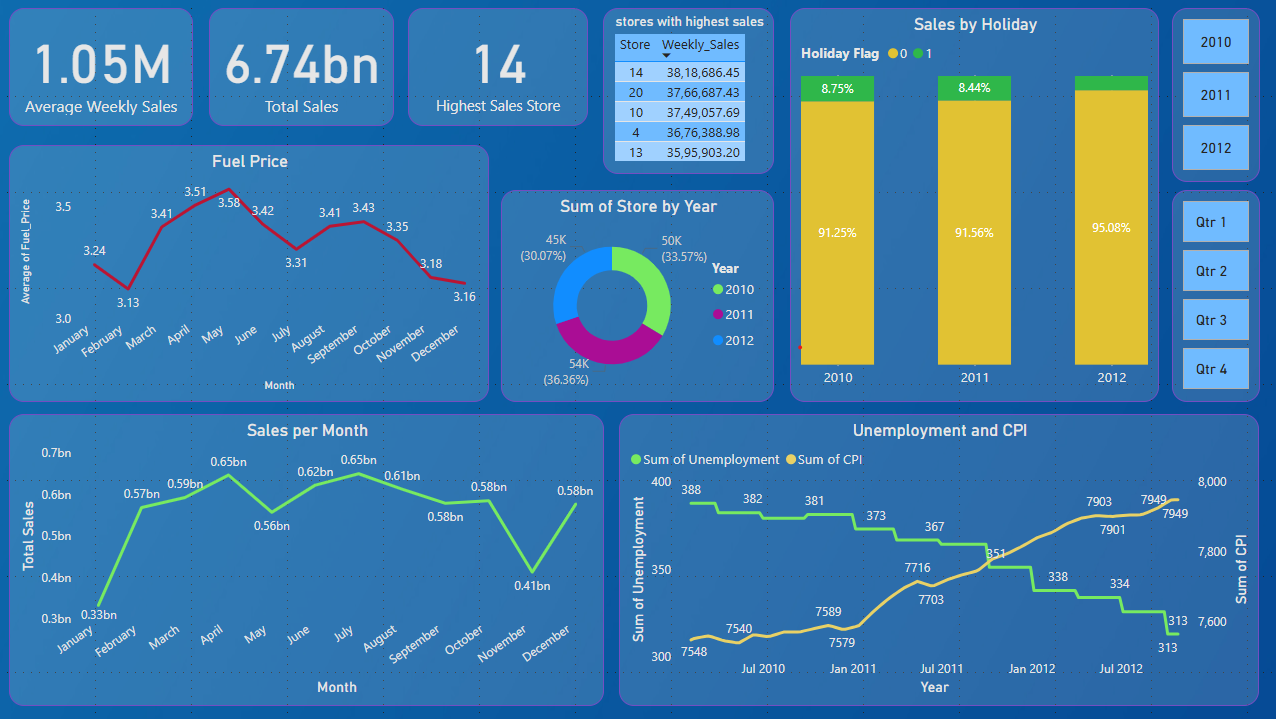

This screenshot's page, from the dashboard's own definition file:
{"tool":"powerbi","page":{"name":"Page 1","canvas":[1280,720],"ordinal":0},"visuals":[{"type":"card","fields":{"Values":["Avg(Walmart_Sales.Weekly_Sales)"]},"box":[10,8,184,118],"z":0},{"type":"card","fields":{"Values":["Sum(Walmart_Sales.Weekly_Sales)"]},"box":[210,8,185,118],"z":1000},{"type":"card","fields":{"Values":["Walmart_Sales.Highest Sales Store"]},"box":[409,8,180,118],"z":2000},{"type":"lineChart","title":"Sales per Month","fields":{"Y":["Walmart_Sales.Total Sales"],"Category":["Walmart_Sales.Date.Variation.Date Hierarchy.Month"]},"box":[10,413.9,595,291.6],"z":3000},{"type":"lineChart","title":"Unemployment and CPI ","fields":{"Y2":["Sum(Walmart_Sales.CPI)"],"Y":["Sum(Walmart_Sales.Unemployment)"],"Category":["Walmart_Sales.Date.Variation.Date Hierarchy.Year","Walmart_Sales.Date.Variation.Date Hierarchy.Quarter","Walmart_Sales.Date.Variation.Date Hierarchy.Month","Walmart_Sales.Date.Variation.Date Hierarchy.Day"]},"box":[620,414,640,292],"z":4000},{"type":"advancedSlicerVisual","fields":{"Values":["Walmart_Sales.Date.Variation.Date Hierarchy.Year"]},"box":[1172.8,8.2,87.8,173.9],"z":5000},{"type":"advancedSlicerVisual","fields":{"Values":["Walmart_Sales.Date.Variation.Date Hierarchy.Quarter"]},"box":[1172.8,190.2,87.8,211.9],"z":6000},{"type":"hundredPercentStackedColumnChart","title":"Sales by Holiday","fields":{"Category":["Walmart_Sales.Date.Variation.Date Hierarchy.Year"],"Y":["Sum(Walmart_Sales.Weekly_Sales)"],"Series":["Walmart_Sales.Holiday_Flag"]},"box":[790.6,8.2,369.5,394],"z":7000},{"type":"lineChart","title":"Fuel Price","fields":{"Y":["Avg(Walmart_Sales.Fuel_Price)"],"Category":["Walmart_Sales.Date.Variation.Date Hierarchy.Year","Walmart_Sales.Date.Variation.Date Hierarchy.Quarter","Walmart_Sales.Date.Variation.Date Hierarchy.Month","Walmart_Sales.Date.Variation.Date Hierarchy.Day"]},"box":[10,145,480,257],"z":8000},{"type":"tableEx","title":"stores with highest sales","fields":{"Values":["Walmart_Sales.Store","Walmart_Sales.Weekly_Sales"]},"box":[604.1,8.2,171.2,165.7],"z":9000},{"type":"donutChart","fields":{"Category":["Walmart_Sales.Date.Variation.Date Hierarchy.Year","Walmart_Sales.Date.Variation.Date Hierarchy.Quarter","Walmart_Sales.Date.Variation.Date Hierarchy.Month","Walmart_Sales.Date.Variation.Date Hierarchy.Day"],"Y":["Sum(Walmart_Sales.Store)"]},"box":[501.7,190.2,273.5,211.9],"z":10000}]}

Visuals, with their boxes in screenshot pixels (x1, y1, x2, y2), scaled from the page's 1280x720 canvas onto the 1276x719 screenshot:
card - Avg(Walmart_Sales.Weekly_Sales): [left=10, top=8, right=193, bottom=126]
card - Sum(Walmart_Sales.Weekly_Sales): [left=209, top=8, right=394, bottom=126]
card - Walmart_Sales.Highest Sales Store: [left=408, top=8, right=587, bottom=126]
"Sales per Month" lineChart: [left=10, top=413, right=603, bottom=705]
"Unemployment and CPI " lineChart: [left=618, top=413, right=1256, bottom=705]
advancedSlicerVisual - Walmart_Sales.Date.Variation.Date Hierarchy.Year: [left=1169, top=8, right=1257, bottom=182]
advancedSlicerVisual - Walmart_Sales.Date.Variation.Date Hierarchy.Quarter: [left=1169, top=190, right=1257, bottom=402]
"Sales by Holiday" hundredPercentStackedColumnChart: [left=788, top=8, right=1156, bottom=402]
"Fuel Price" lineChart: [left=10, top=145, right=488, bottom=401]
"stores with highest sales" tableEx: [left=602, top=8, right=773, bottom=174]
donutChart - Walmart_Sales.Date.Variation.Date Hierarchy.Year x Walmart_Sales.Date.Variation.Date Hierarchy.Quarter: [left=500, top=190, right=773, bottom=402]
